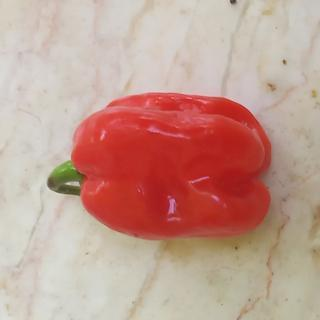Grade-A: (68, 87, 278, 242)
